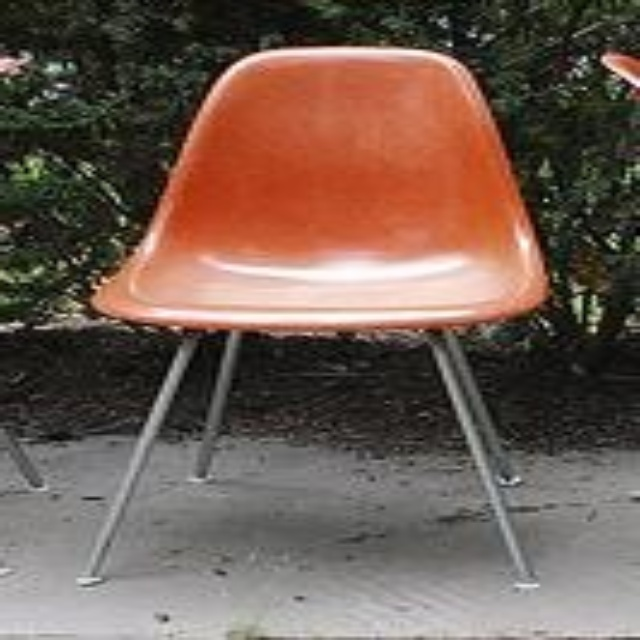obstacle: (91, 47, 544, 326)
